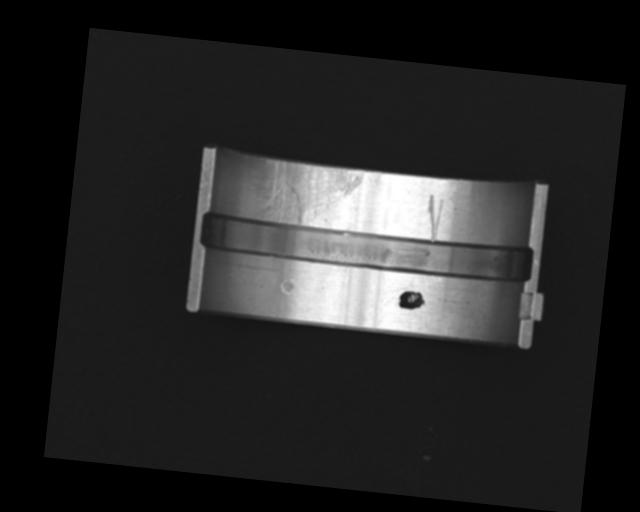blot: (397, 288, 426, 311)
bruise: (279, 275, 296, 296)
gap: (199, 212, 535, 285)
nick: (422, 193, 444, 243)
scratch: (252, 156, 363, 233)
